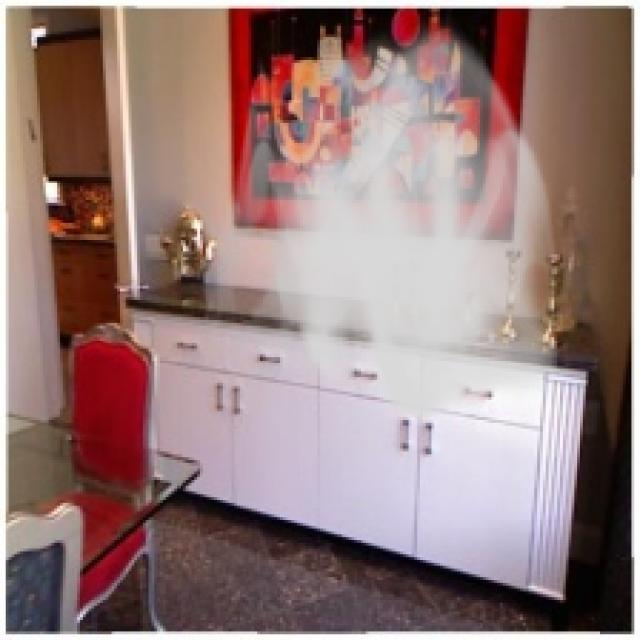smoke: (200, 14, 569, 426)
